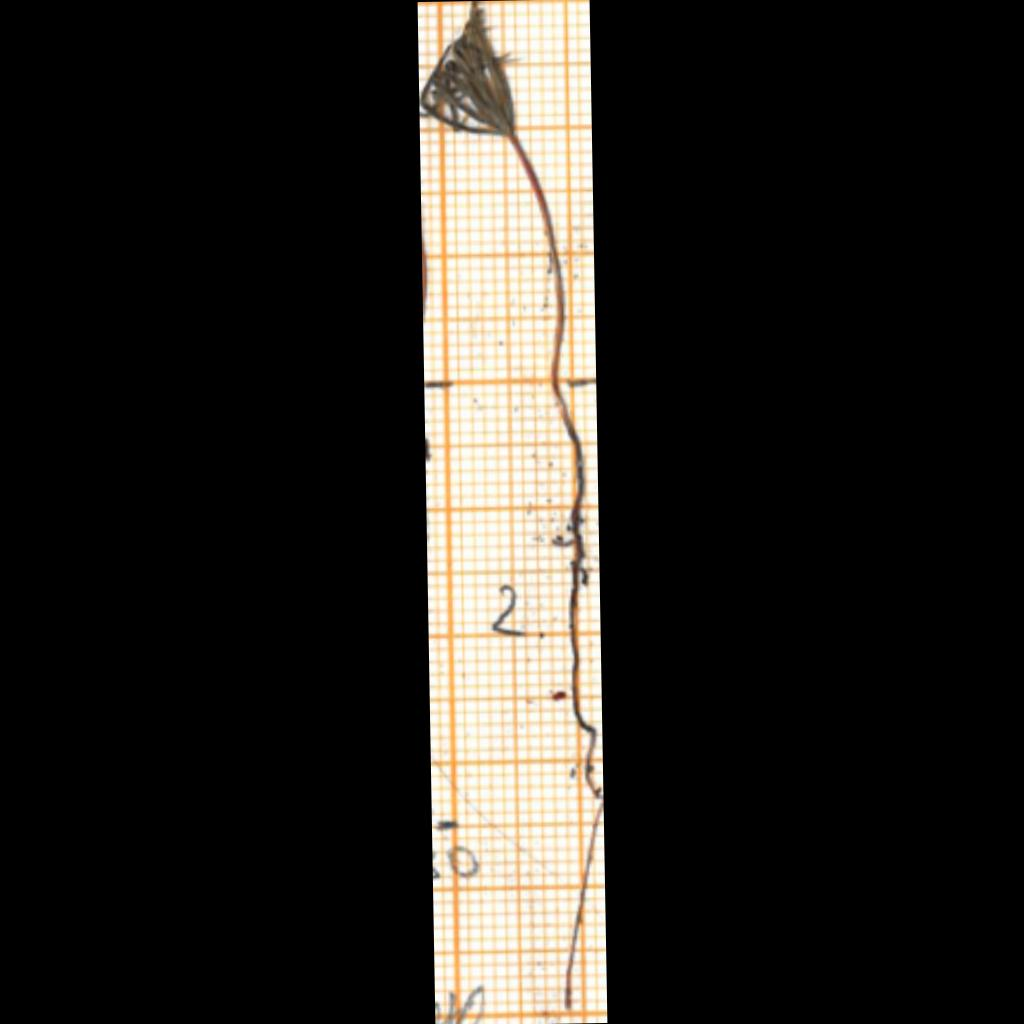flowerPinus: (422, 1, 516, 137)
rootPinus: (555, 402, 603, 1008)
stemPinus: (514, 135, 563, 392)
